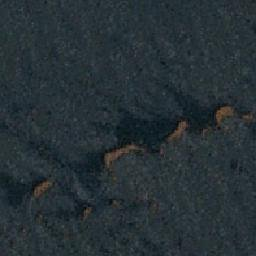debris: (103, 143, 140, 170), (164, 118, 195, 140), (214, 105, 233, 130), (31, 179, 53, 198)
